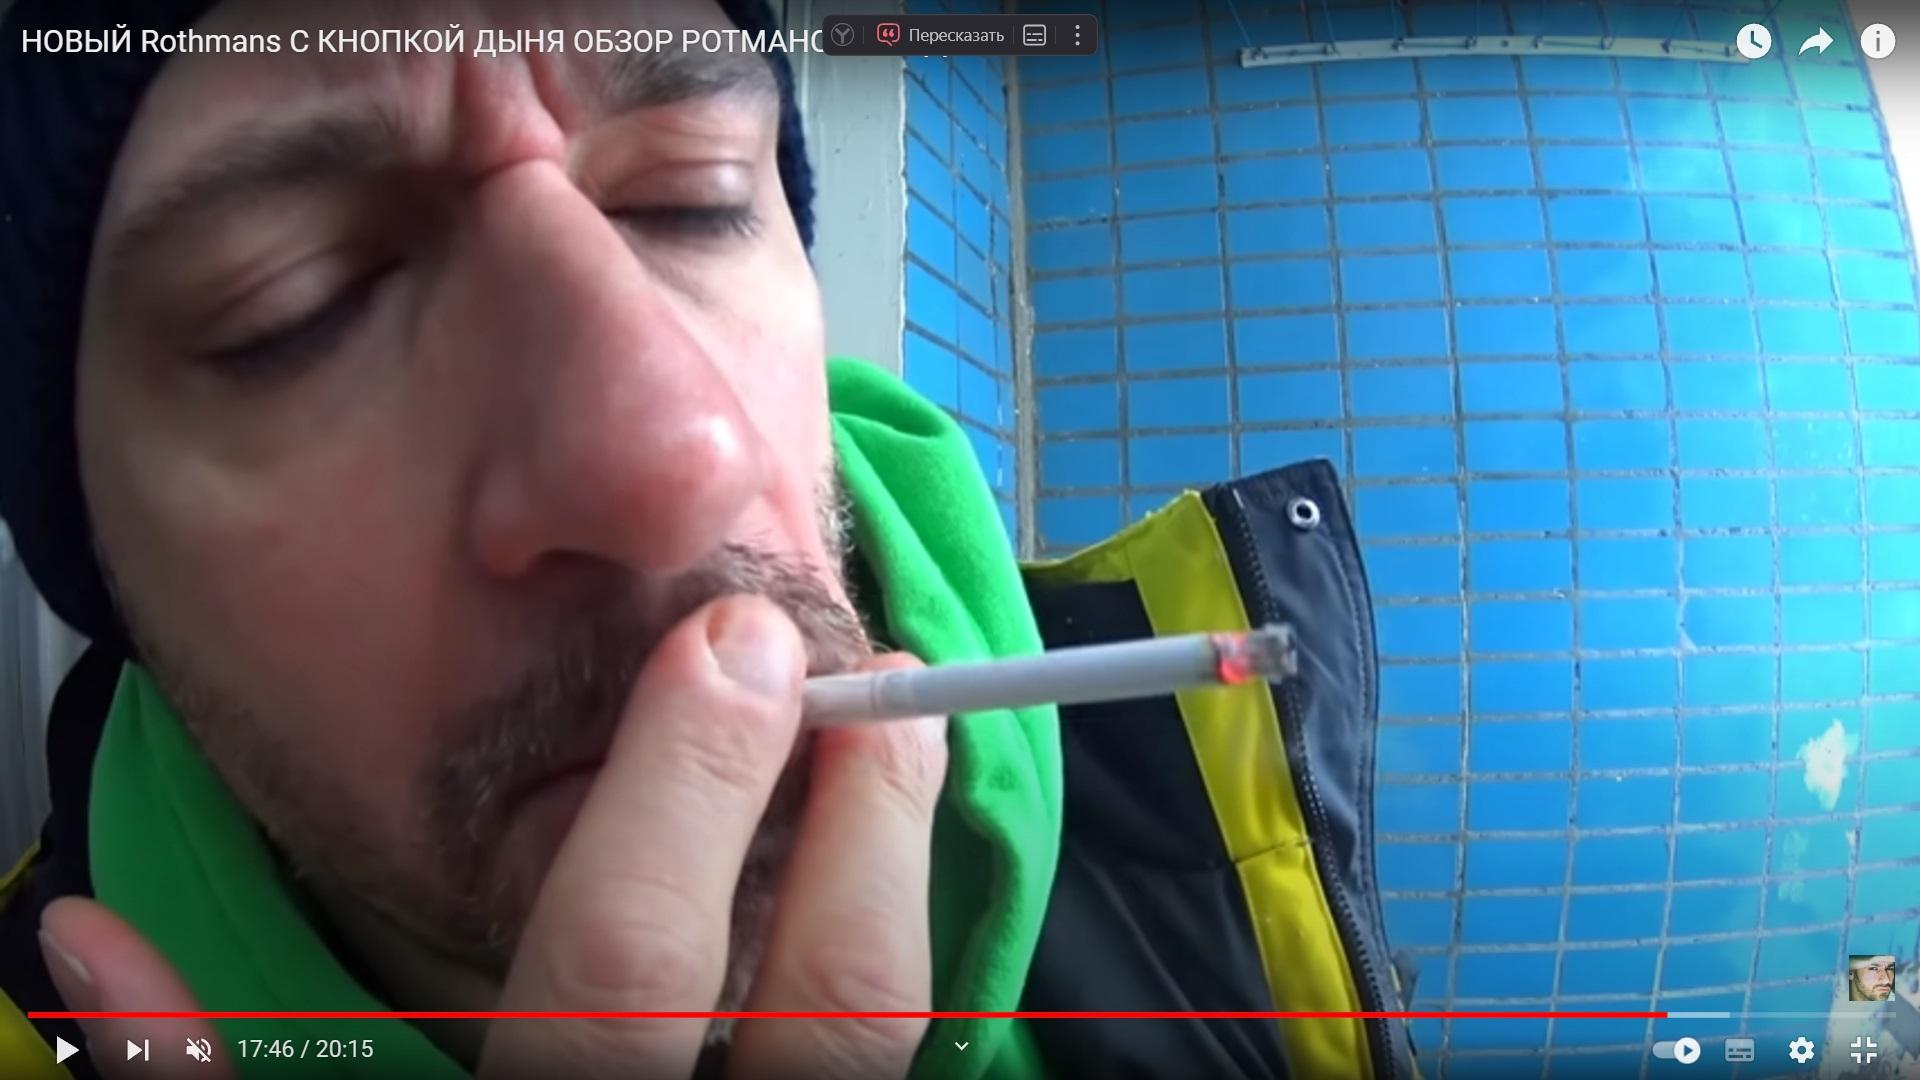cigarette: (803, 622, 1298, 728)
